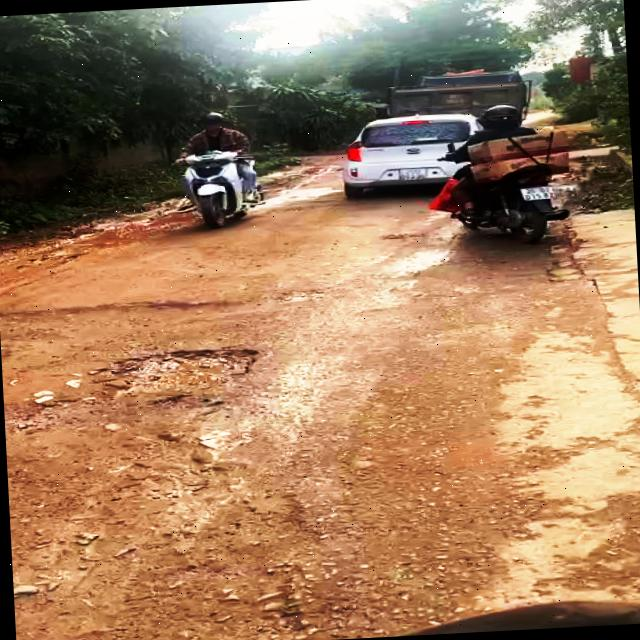pothole: (2, 346, 272, 446), (0, 288, 321, 361)
